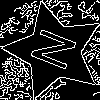N: (29, 26, 87, 77)
